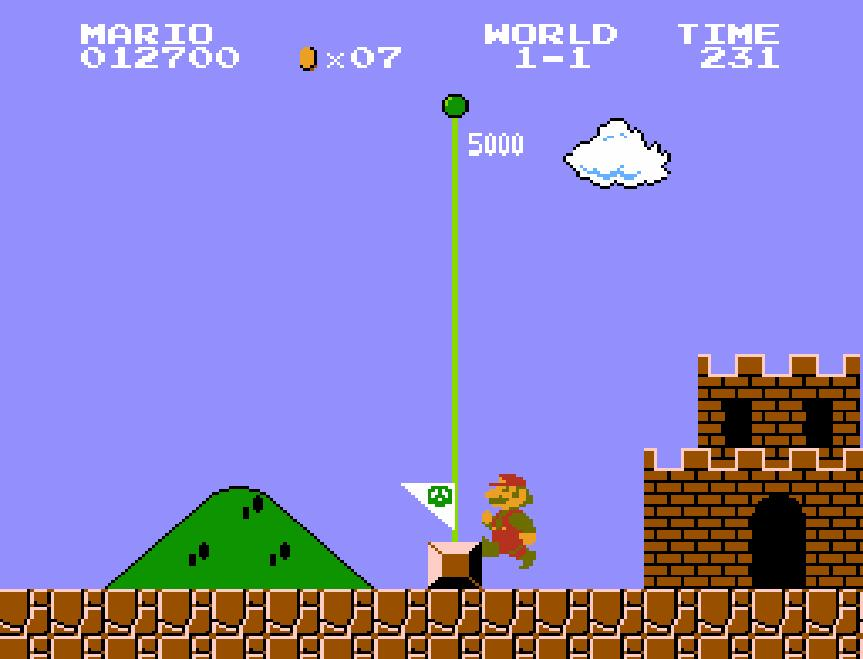big_mario: (480, 472, 538, 570)
